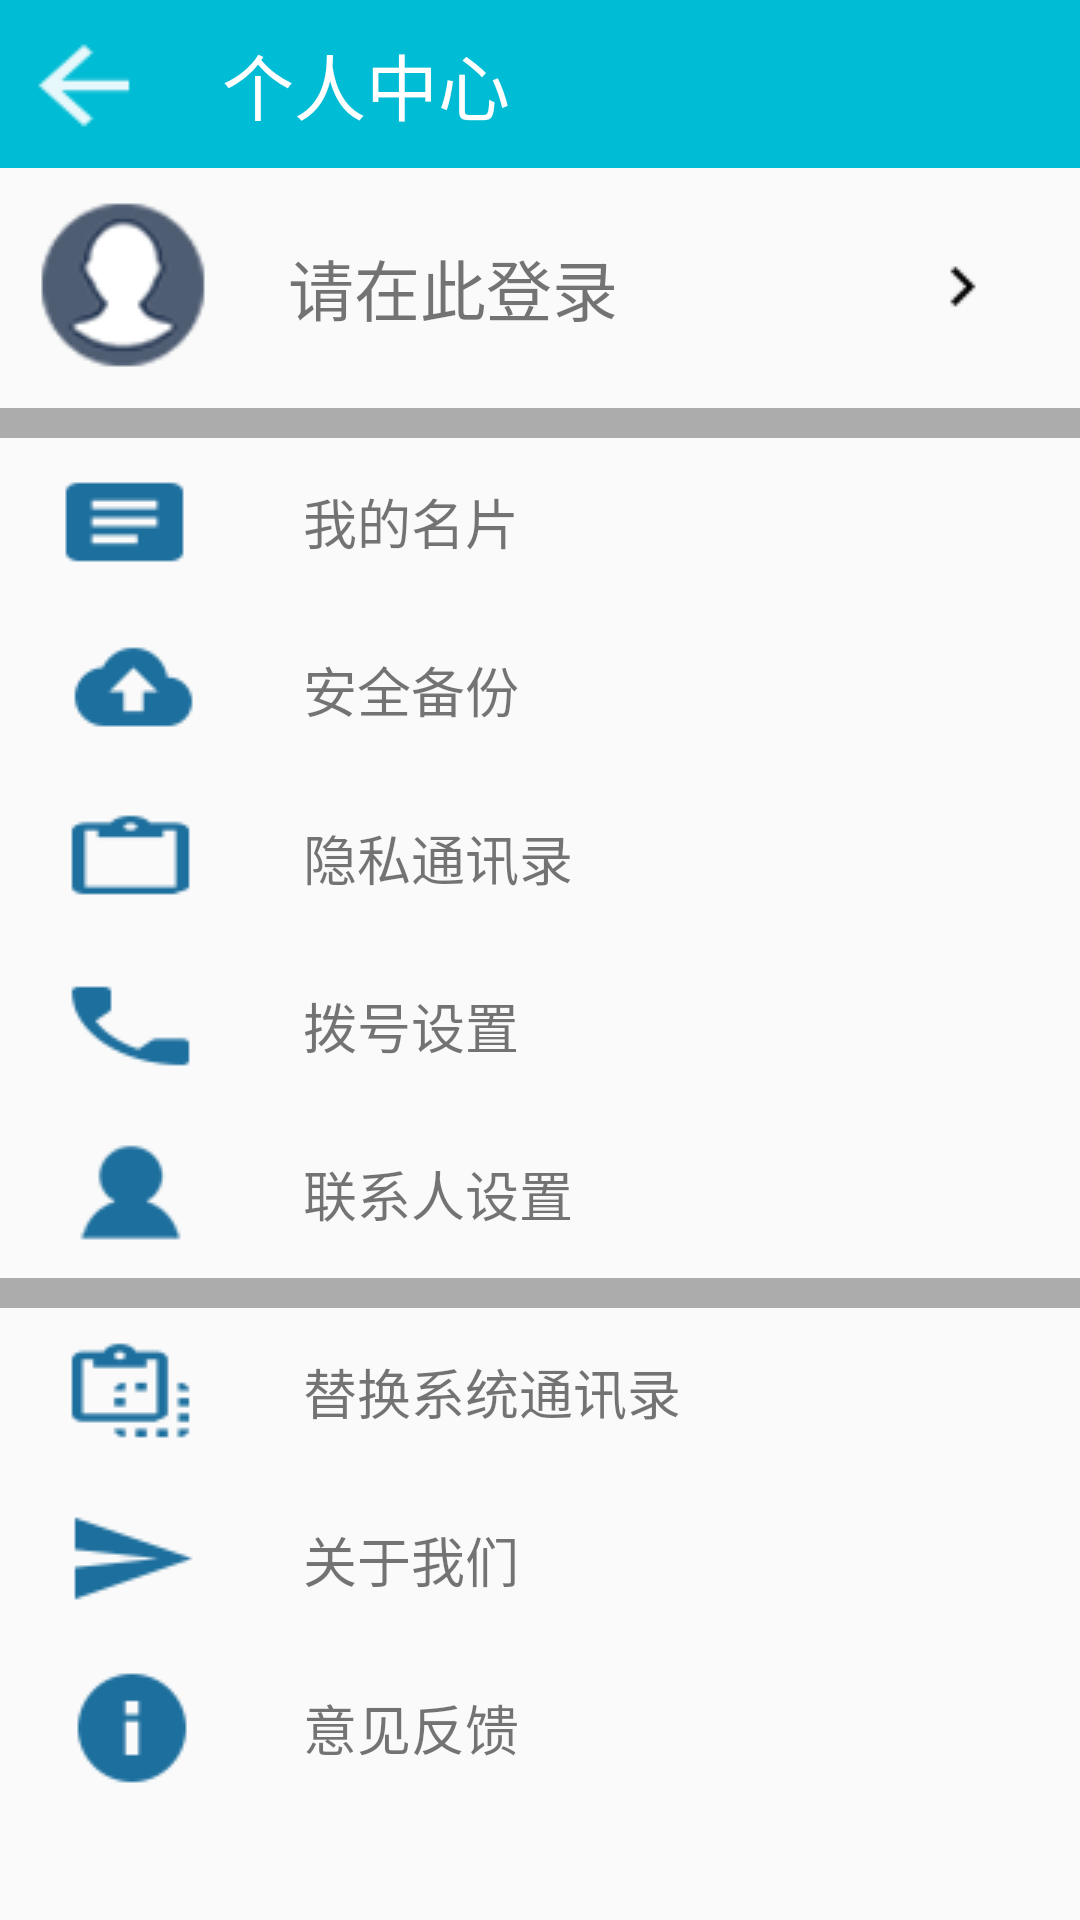

Locate icon controls on the screen. Image size 1080x1920, boxes as {"x1": x1, "y1": y1, "x2": x2, "y2": y2}.
arrow: {"x1": 950, "y1": 266, "x2": 976, "y2": 307}
back: {"x1": 38, "y1": 44, "x2": 130, "y2": 127}
back up: {"x1": 74, "y1": 647, "x2": 193, "y2": 727}
people set: {"x1": 80, "y1": 1145, "x2": 181, "y2": 1240}
personal: {"x1": 41, "y1": 203, "x2": 205, "y2": 367}
phone set: {"x1": 71, "y1": 986, "x2": 190, "y2": 1066}
